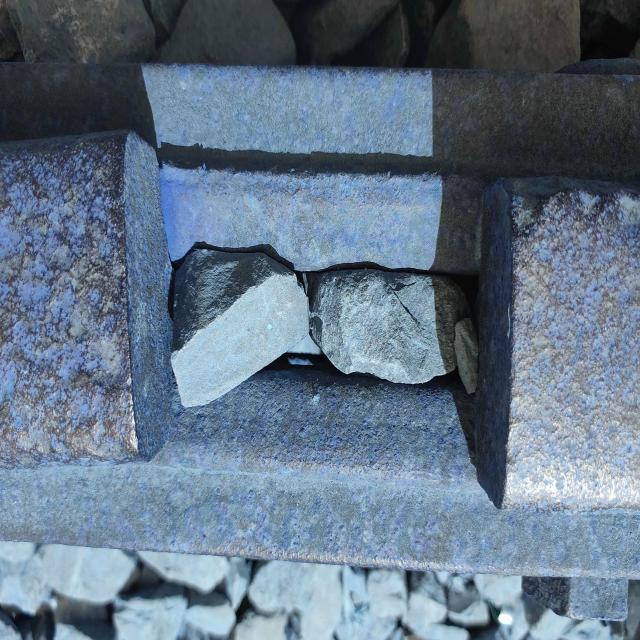broken_rail_high: (116, 61, 532, 566)
